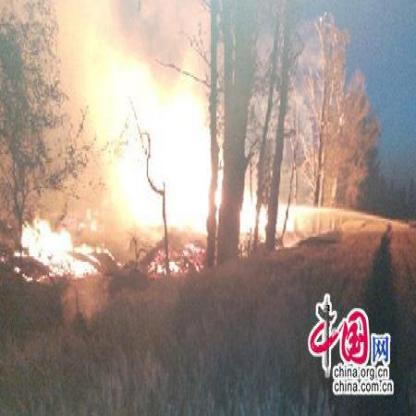fire: (0, 1, 368, 298)
